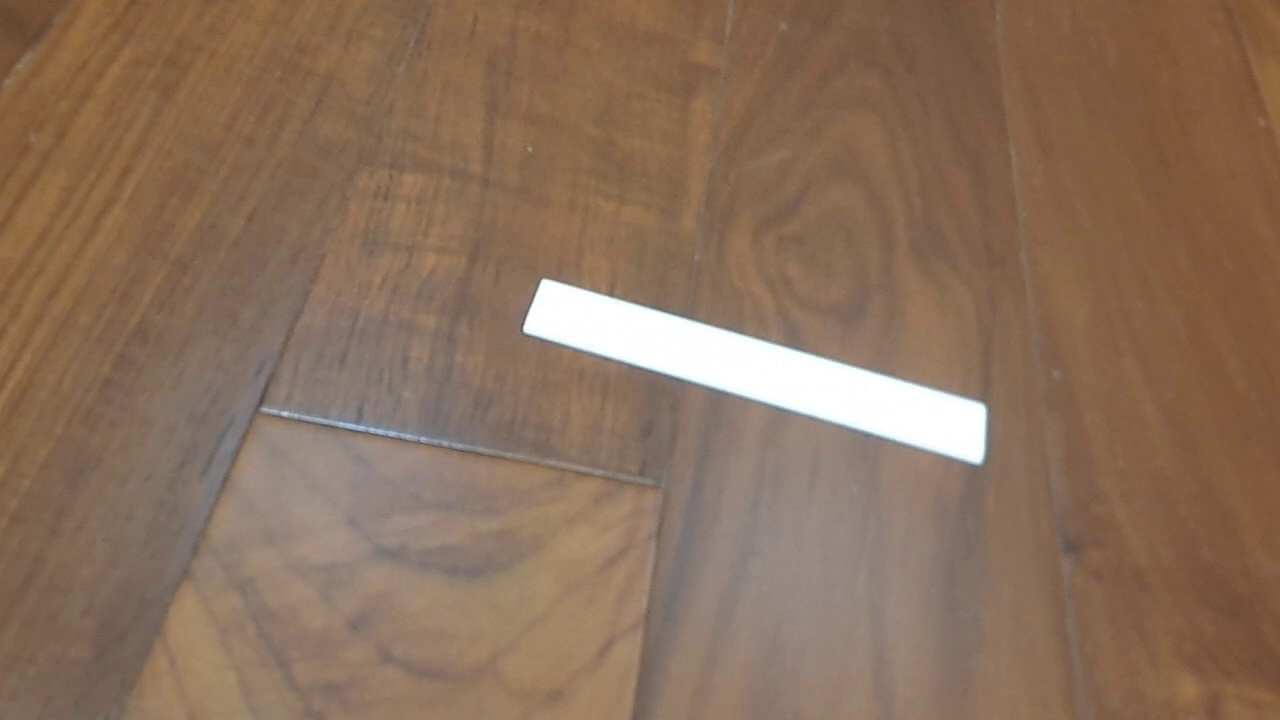ruler: (520, 275, 988, 467)
